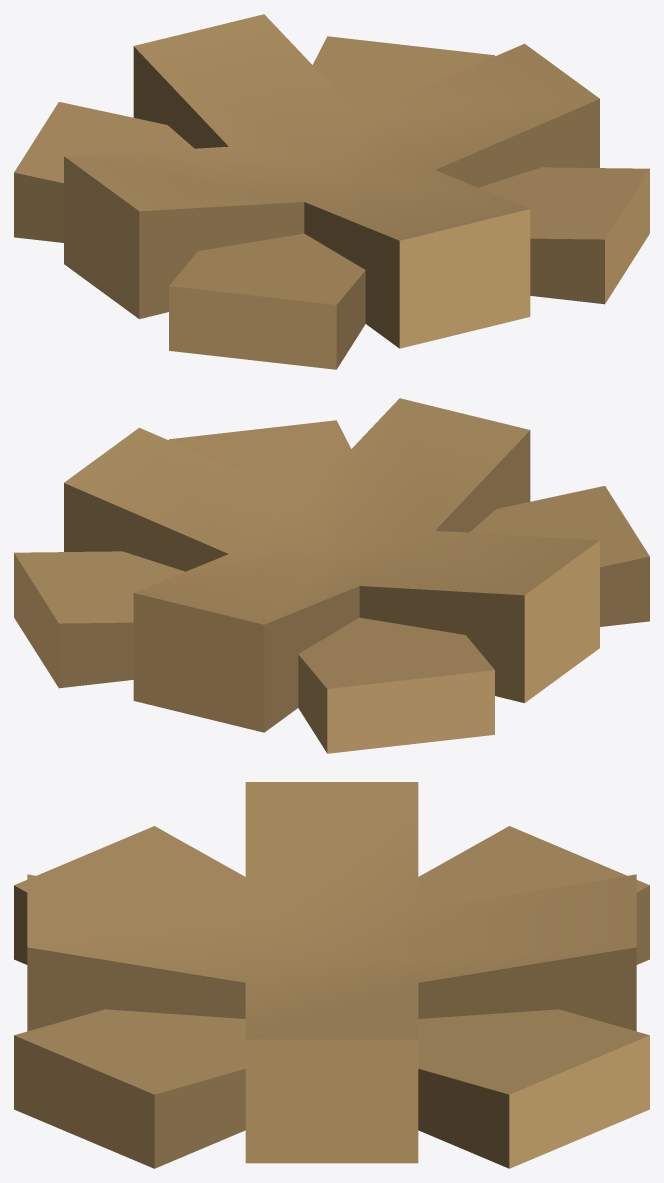
The model's file is naturePack_078.fbx.
3 views of the same model, one above another, from view 1: azimuth 30°, elevation 25°; view 2: azimuth 150°, elevation 25°; view 3: azimuth 270°, elevation 25° (orthographic). The views are drawn at different scales.
Visible parts, largest first — view 1: Mesh1_Campfire Model; view 2: Mesh1_Campfire Model; view 3: Mesh1_Campfire Model.
Boxes of the visible parts, bbox=[...] form: Mesh1_Campfire Model: bbox=[14, 14, 649, 369]; Mesh1_Campfire Model: bbox=[14, 398, 649, 753]; Mesh1_Campfire Model: bbox=[14, 782, 649, 1168].
Bounding box in the file's own units: 0.6993 × 0.15 × 0.6993.
